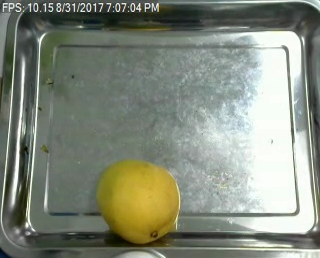Mango: (97, 159, 179, 243)
